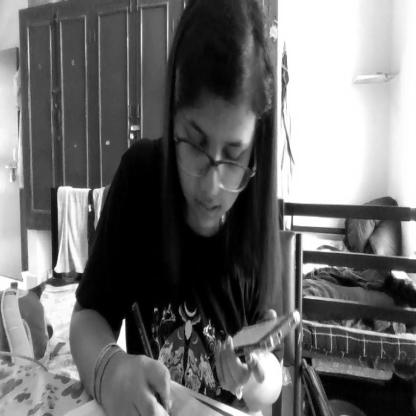Normal: (167, 0, 277, 236)
